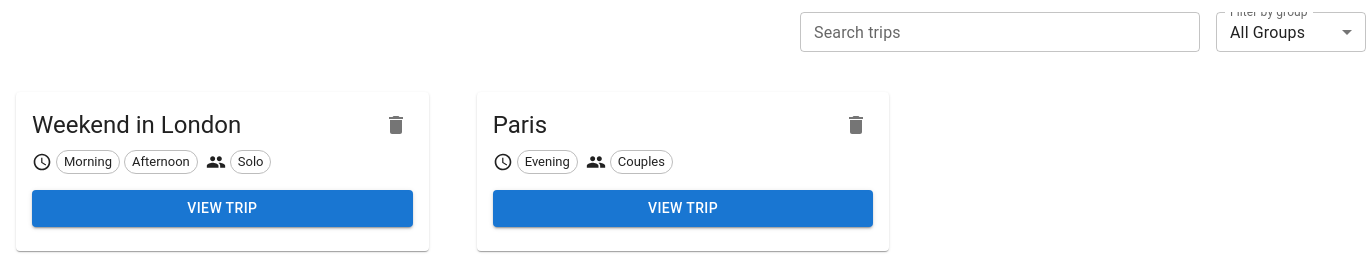
Test: TripList › filters trips by search term
Type "London" into the field labelled "Search trips" at (1000, 32), box [800, 12, 1200, 52]
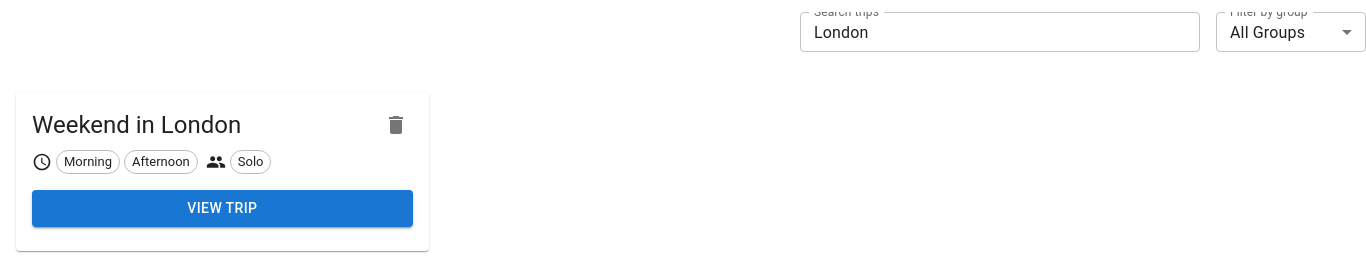
Expected: the text "Weekend in London" is shown, [32, 111, 241, 139]
Expected: the text "Paris" is gone
